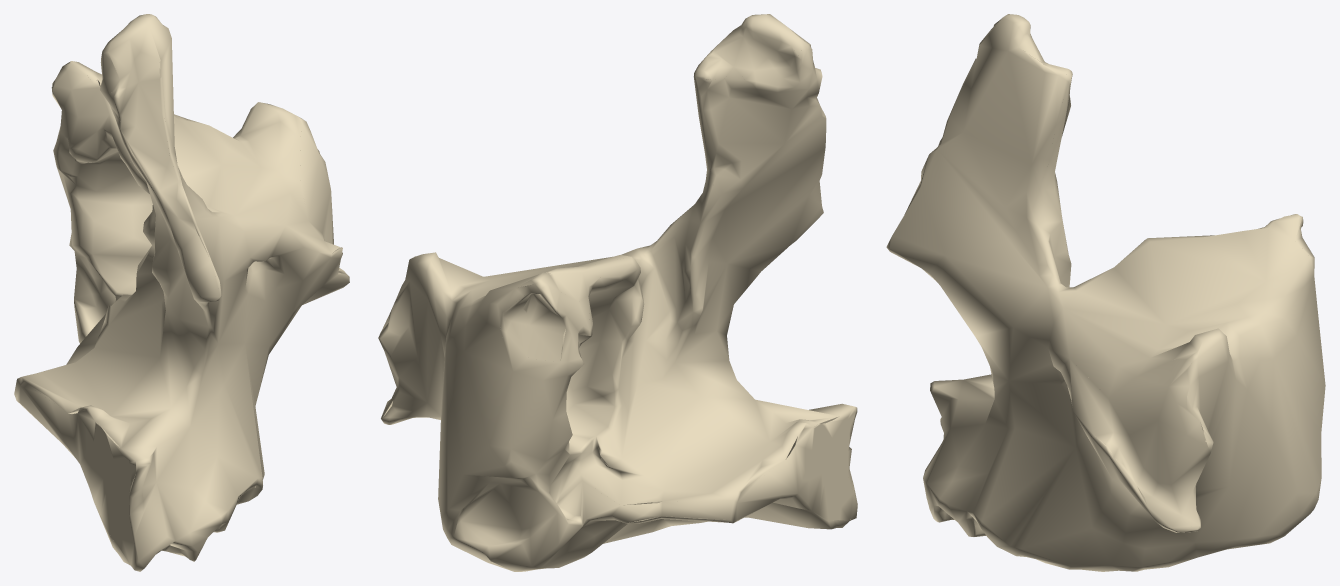
The model's file is esqueleto-maxilla-l.glb.
3 renders of one model, left to right at view 1: azimuth 30°, elevation 25°; view 2: azimuth 150°, elevation 25°; view 3: azimuth 270°, elevation 25°, orthographic. The views are drawn at different scales.
Visible parts, largest first — view 1: Maxilla.l; view 2: Maxilla.l; view 3: Maxilla.l.
Boxes of the visible parts, <box> form: Maxilla.l: <box>14,14,349,571</box>; Maxilla.l: <box>378,14,857,571</box>; Maxilla.l: <box>886,14,1325,571</box>.
Bounding box in the file's own units: 0.0462 × 0.0678 × 0.0538.
